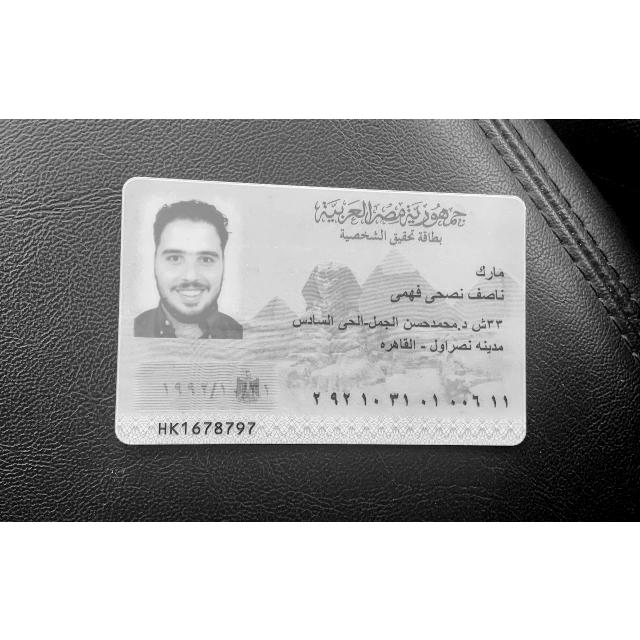id_card: (115, 176, 528, 445)
